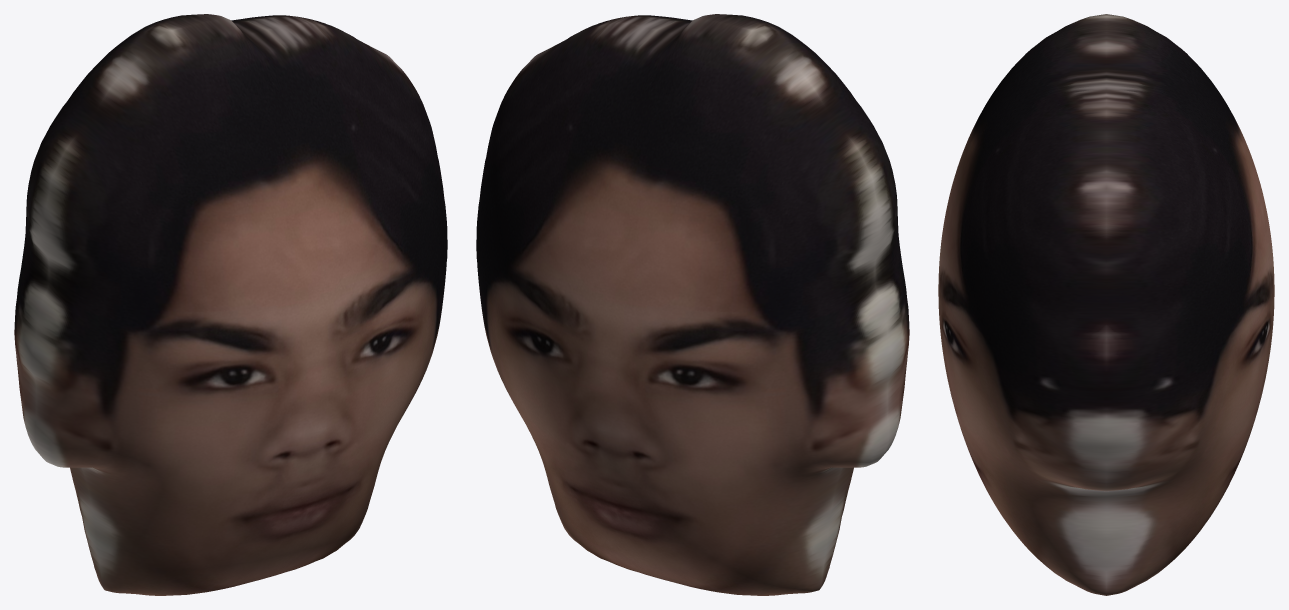
Rendered from mm_project.glb.
3 renders of one model, left to right at view 1: azimuth 30°, elevation 25°; view 2: azimuth 150°, elevation 25°; view 3: azimuth 270°, elevation 25°, orthographic. The views are drawn at different scales.
Size of the model in its own units: 4.98 by 6.68 by 3.94.
1 material, 1 textured.
